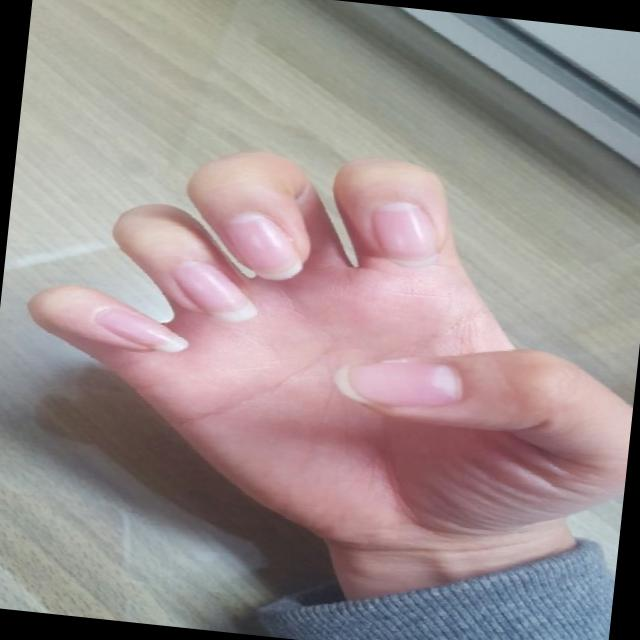Nail: (225, 212, 302, 280), (345, 361, 461, 406), (171, 262, 256, 321), (94, 308, 188, 352), (374, 201, 437, 265)
